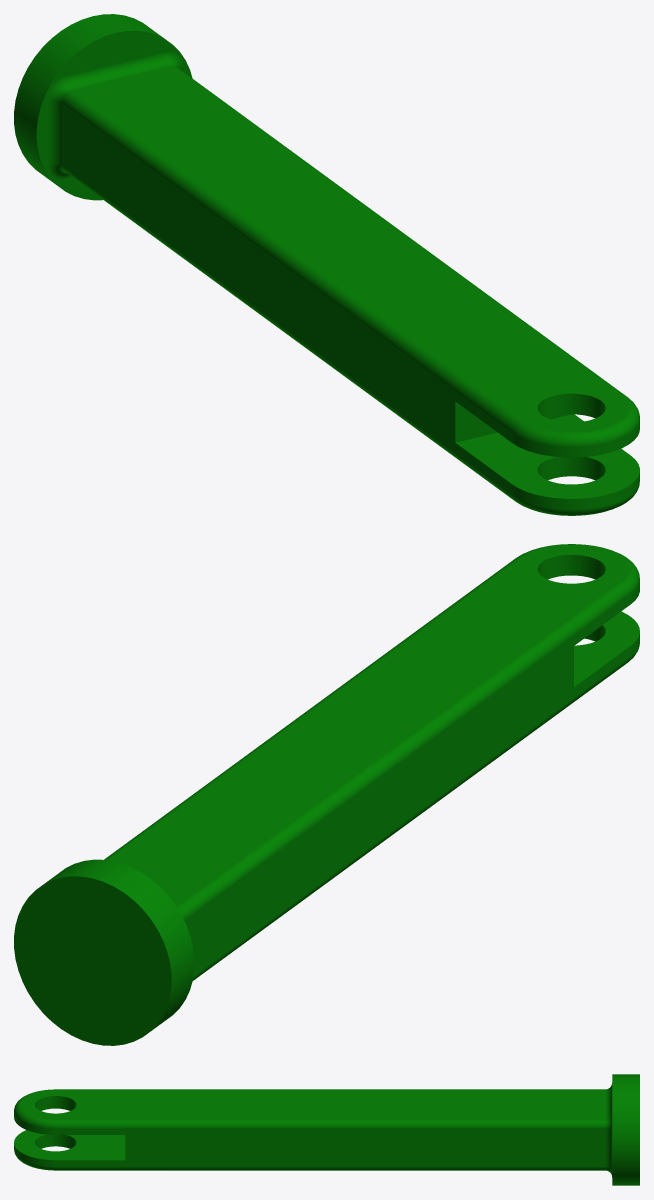
File: link_2_render.glb
3 renders of one model, top to bottom at view 1: azimuth 30°, elevation 25°; view 2: azimuth 150°, elevation 25°; view 3: azimuth 270°, elevation 25°, orthographic. The views are drawn at different scales.
Visible parts, largest first — view 1: NAUO1; view 2: NAUO1; view 3: NAUO1.
Part boxes in pixels (x1=…): NAUO1: x1=14, y1=14, x2=639, y2=515; NAUO1: x1=14, y1=544, x2=639, y2=1045; NAUO1: x1=14, y1=1074, x2=639, y2=1185.
Size of the model in its own units: 0.0399 by 0.04 by 0.225.
